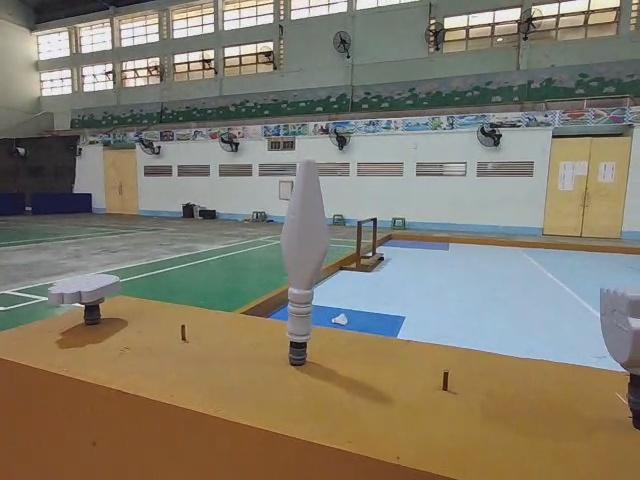Fist: (601, 280, 640, 431)
Hand: (45, 267, 118, 326)
Sph: (275, 163, 332, 373)
